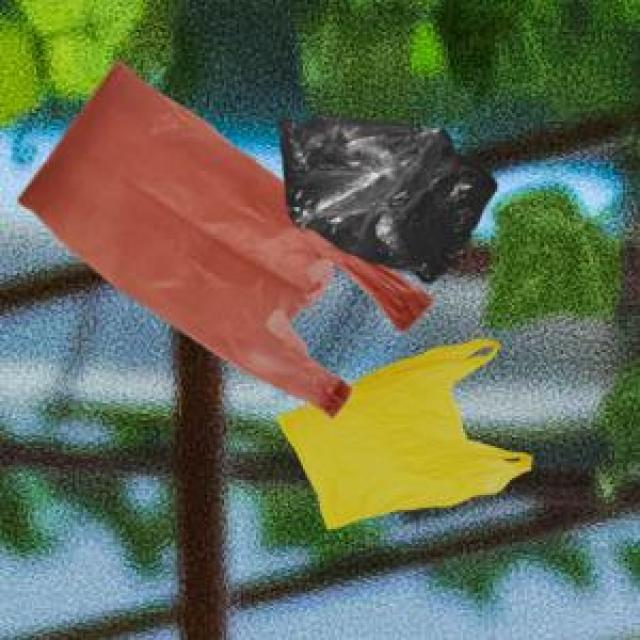plastic: (17, 44, 560, 560)
